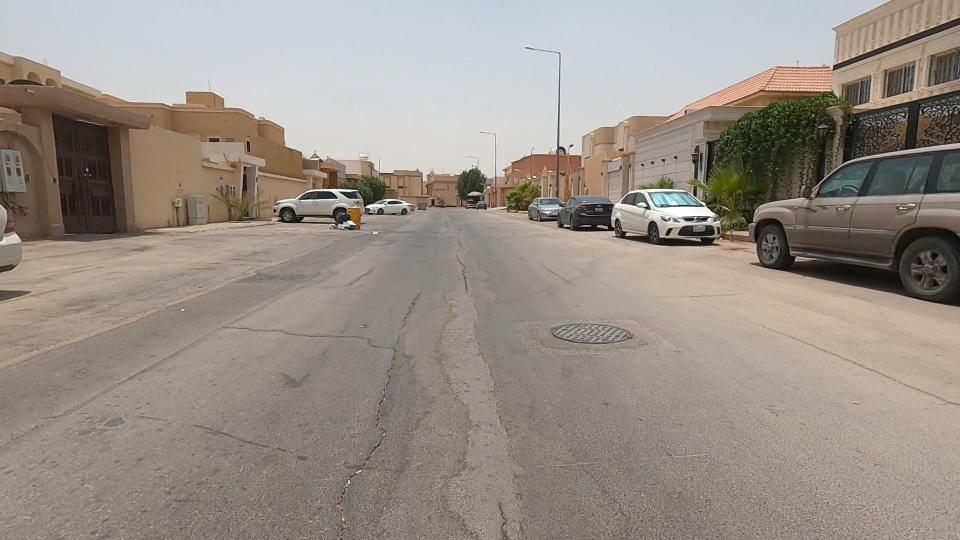GARBAGE: (309, 199, 382, 263), (354, 212, 405, 259)
POTHOLES: (291, 402, 422, 524), (355, 308, 423, 487)
